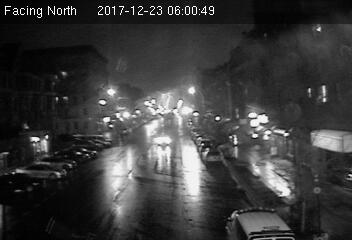car: (201, 147, 224, 165)
police: (222, 206, 301, 240)
